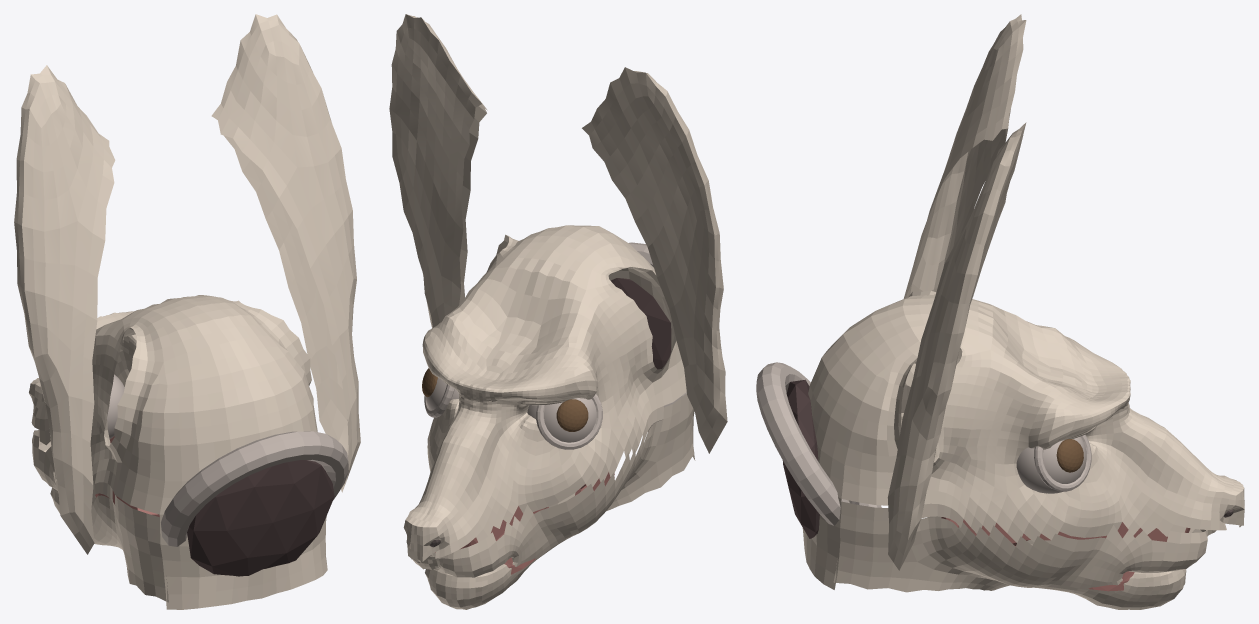
The model's file is pyn_head_pre-earfix_2026-11-16.glb.
The picture shows the model from 3 angles, left to right: view 1: azimuth 30°, elevation 25°; view 2: azimuth 150°, elevation 25°; view 3: azimuth 270°, elevation 25°; orthographic projection. The views are drawn at different scales.
Visible parts, largest first — view 1: TissueHead, Ear_L, Ear_R, NeckSocketDisc, NeckSocket, Jaw, Eyelid_R; view 2: TissueHead, Ear_R, Ear_L, Jaw, NeckSocketDisc, Eyelid_R, LidMargin_R, Iris_R, TeethUpper; view 3: TissueHead, Jaw, Ear_L, Ear_R, NeckSocket, NeckSocketDisc, Eyelid_L, LidMargin_L, TeethUpper, Iris_L.
Boxes of the visible parts, bbox=[...] form: TissueHead: bbox=[29, 295, 327, 609]; Ear_L: bbox=[211, 14, 360, 492]; Ear_R: bbox=[14, 65, 115, 554]; NeckSocketDisc: bbox=[187, 460, 334, 576]; NeckSocket: bbox=[161, 431, 348, 546]; Jaw: bbox=[32, 430, 326, 602]; Eyelid_R: bbox=[107, 374, 124, 438]; TissueHead: bbox=[403, 225, 695, 562]; Ear_R: bbox=[582, 67, 727, 453]; Ear_L: bbox=[389, 14, 487, 328]; Jaw: bbox=[407, 393, 694, 609]; NeckSocketDisc: bbox=[611, 278, 671, 369]; Eyelid_R: bbox=[527, 398, 596, 442]; LidMargin_R: bbox=[536, 393, 602, 449]; Iris_R: bbox=[556, 399, 588, 431]; TeethUpper: bbox=[435, 472, 614, 552]; TissueHead: bbox=[802, 290, 1244, 589]; Jaw: bbox=[833, 416, 1216, 609]; Ear_L: bbox=[887, 122, 1026, 570]; Ear_R: bbox=[901, 14, 1026, 416]; NeckSocket: bbox=[756, 362, 881, 525]; NeckSocketDisc: bbox=[782, 379, 819, 538]; Eyelid_L: bbox=[1016, 436, 1086, 493]; LidMargin_L: bbox=[1034, 434, 1091, 491]; TeethUpper: bbox=[941, 517, 1190, 546]; Iris_L: bbox=[1056, 439, 1083, 472].
Bounding box in the file's own units: 0.8731 × 1.35 × 1.12.
